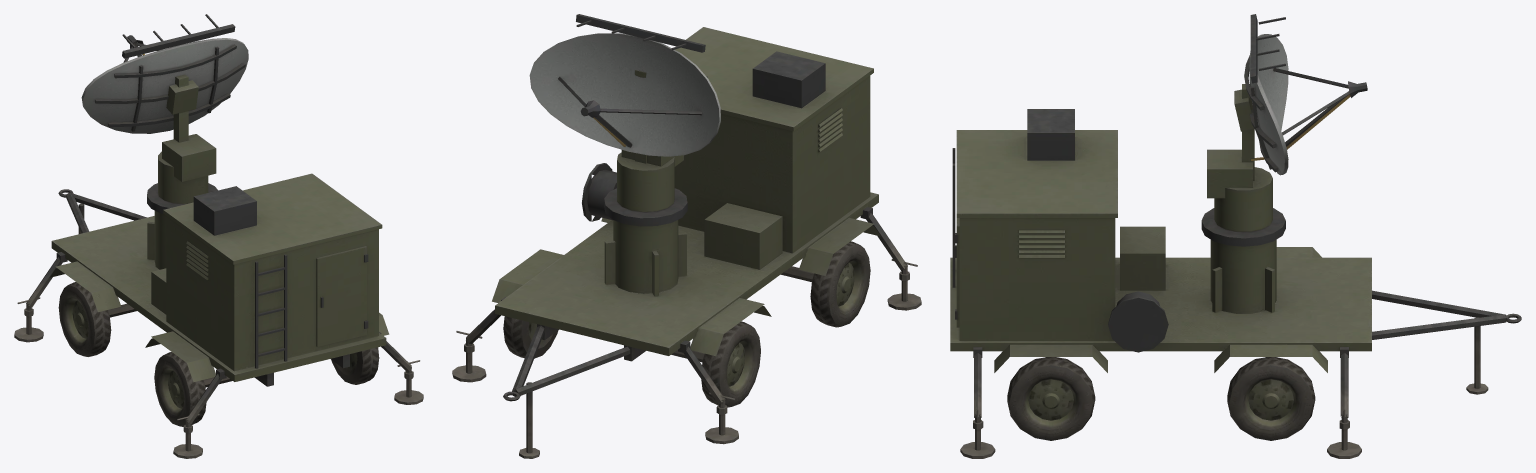
File: radar.glb
The picture shows the model from 3 angles, left to right: view 1: azimuth 30°, elevation 25°; view 2: azimuth 150°, elevation 25°; view 3: azimuth 270°, elevation 25°; orthographic projection. The views are drawn at different scales.
Parts seen in each view (by area): view 1: trailer, dish; view 2: trailer, dish; view 3: trailer, dish.
Boxes of the visible parts, x1,y1,x2,y2 form: trailer: [14, 173, 423, 458]; dish: [81, 14, 248, 203]; trailer: [452, 27, 921, 458]; dish: [529, 14, 720, 211]; trailer: [950, 109, 1521, 458]; dish: [1207, 14, 1367, 231].
Size of the model in its own units: 3.56 by 4.21 by 6.23.
1 material, 1 textured.
